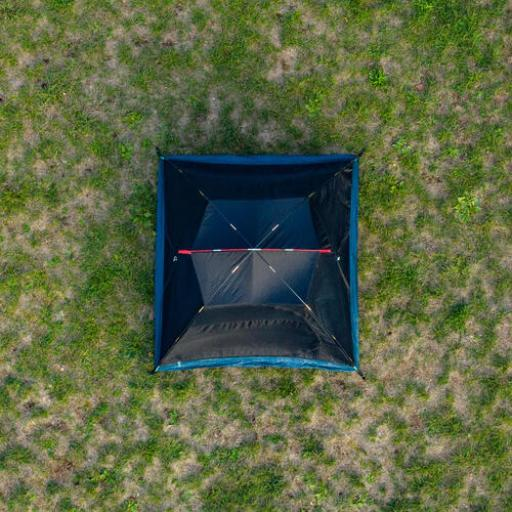Tent: (150, 145, 362, 375)
